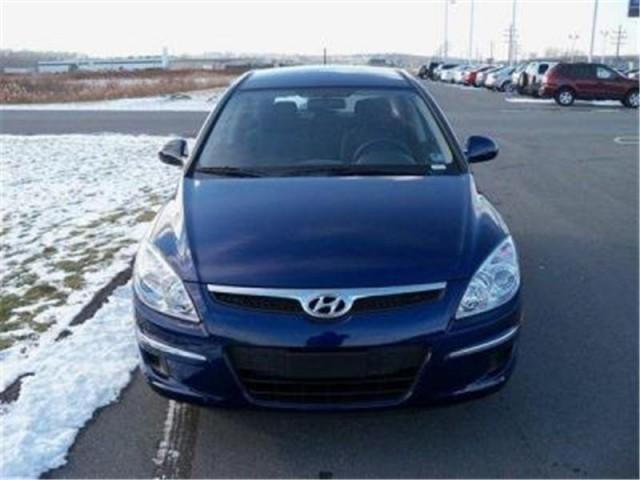Hatchback: (130, 63, 524, 413)
